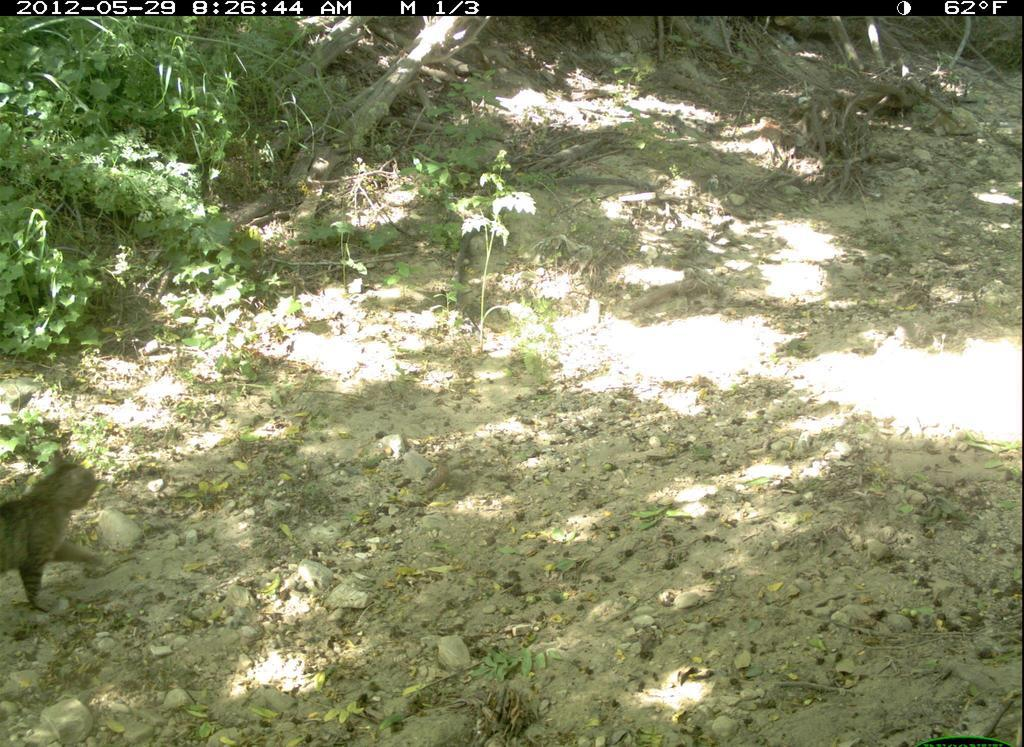cat: (1, 433, 123, 614)
